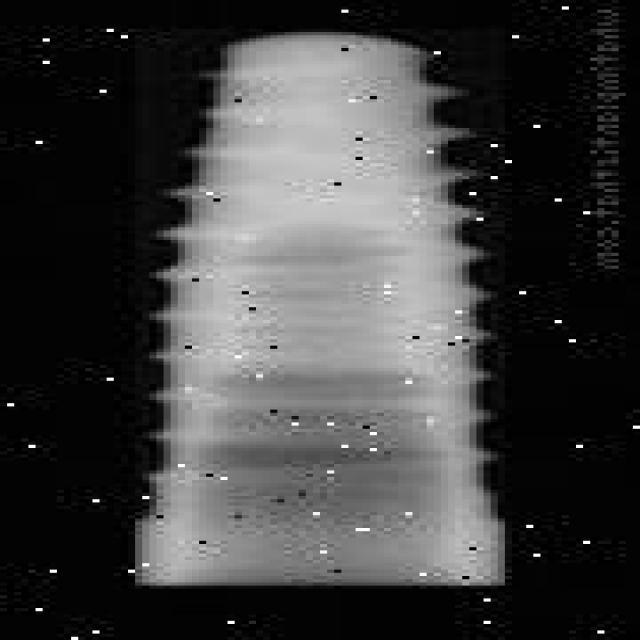Retained root: (130, 27, 505, 586)
